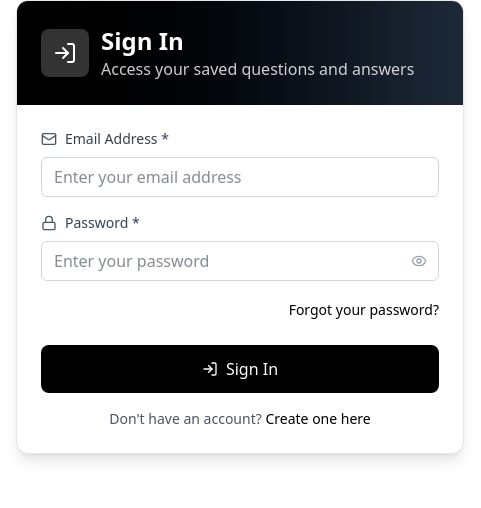
SignInForm › Form Validation › shows validation error for empty password
The image size is (481, 508).
Type "test@example.com" into the field with test id "email-input" at (240, 177), box [41,157,439,197]
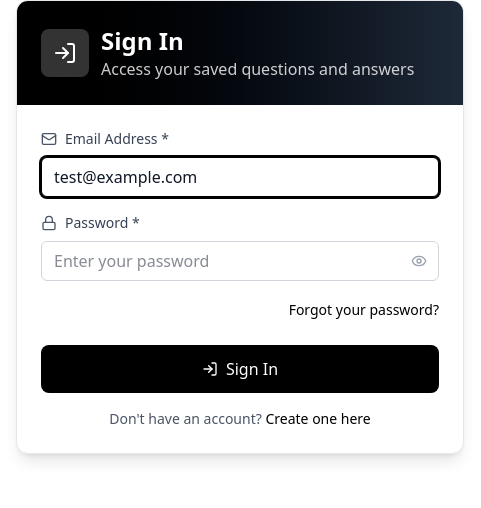
Click the button with test id "signin-button" at (240, 369), box [41,345,439,393]
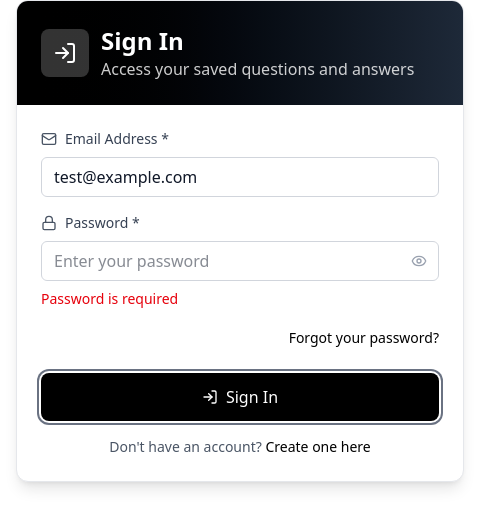
Expected: the text with test id "password-error" reads "Password is required", [41,289,178,308]
